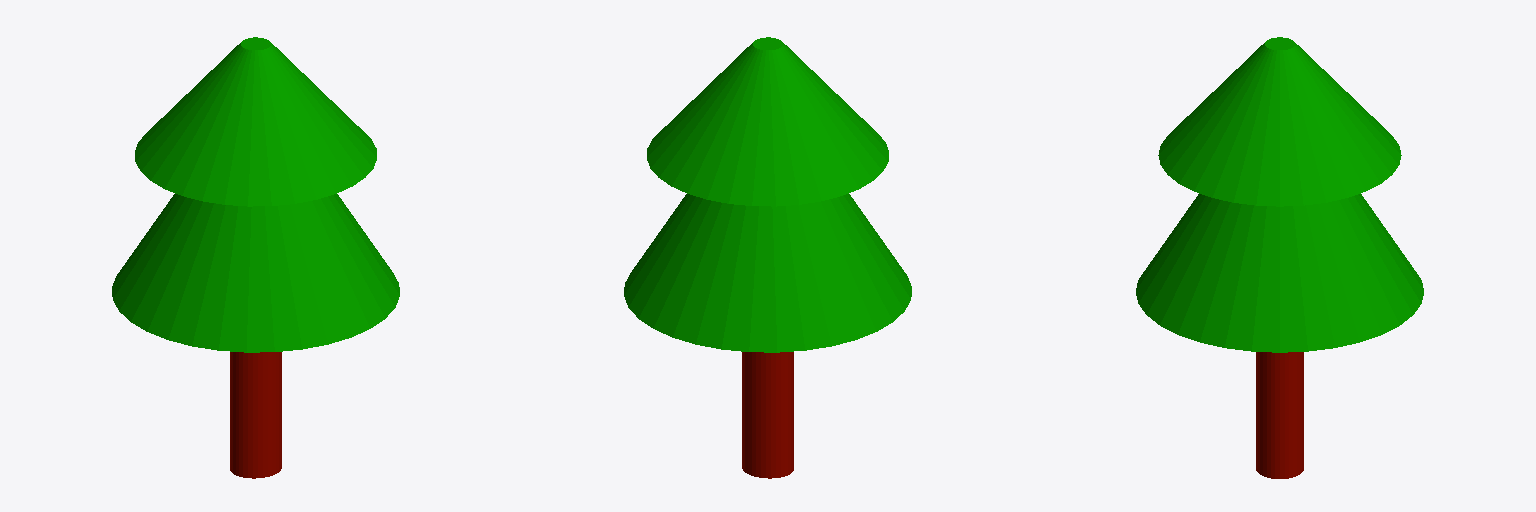
The model's file is pinetree.obj.
3 views of the same model, side by side, from view 1: azimuth 30°, elevation 25°; view 2: azimuth 150°, elevation 25°; view 3: azimuth 270°, elevation 25° (orthographic).
Visible parts, largest first — view 1: Cylinder; view 2: Cylinder; view 3: Cylinder.
Boxes of the visible parts, x1,y1,x2,y2 form: Cylinder: [112, 37, 399, 478]; Cylinder: [624, 37, 911, 478]; Cylinder: [1136, 37, 1423, 478].
Bounding box in the file's own units: 1.88 × 3.04 × 1.88.